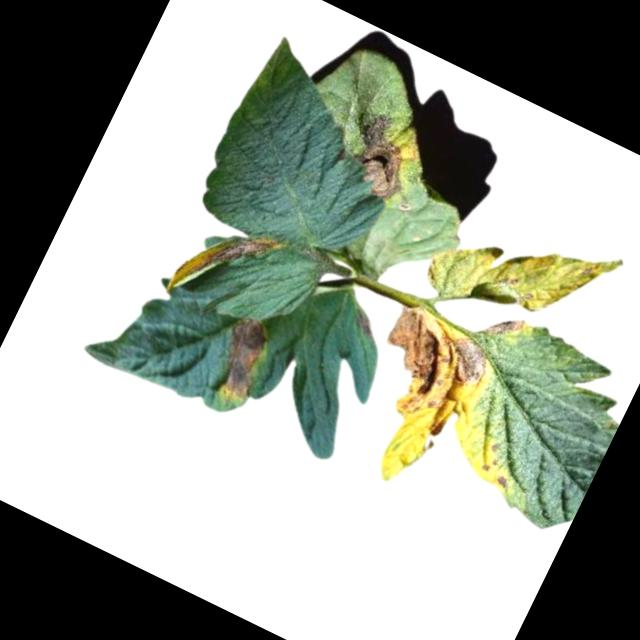Early_blight: (352, 301, 505, 456), (166, 206, 282, 325), (329, 104, 431, 208), (201, 310, 283, 410), (486, 308, 527, 348), (495, 476, 512, 492)
